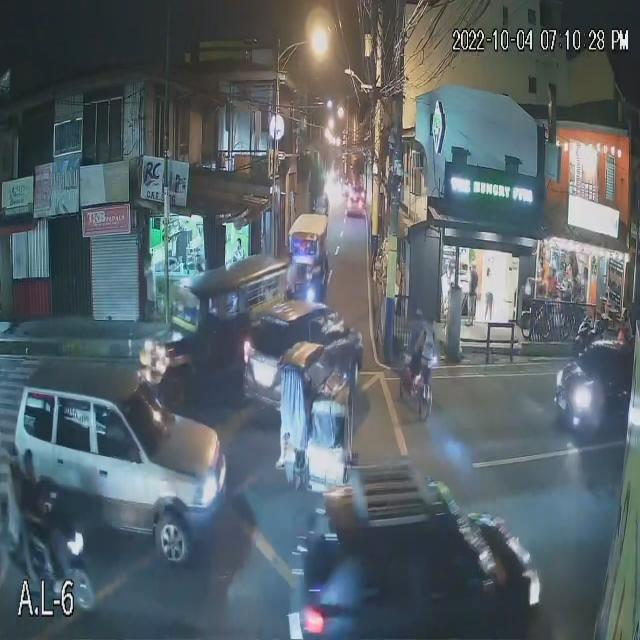0 motorcycle: (0, 512, 106, 611)
1 rider: (0, 473, 33, 556), (22, 474, 52, 545)
2 helmet: (20, 448, 45, 483), (2, 445, 24, 481)
